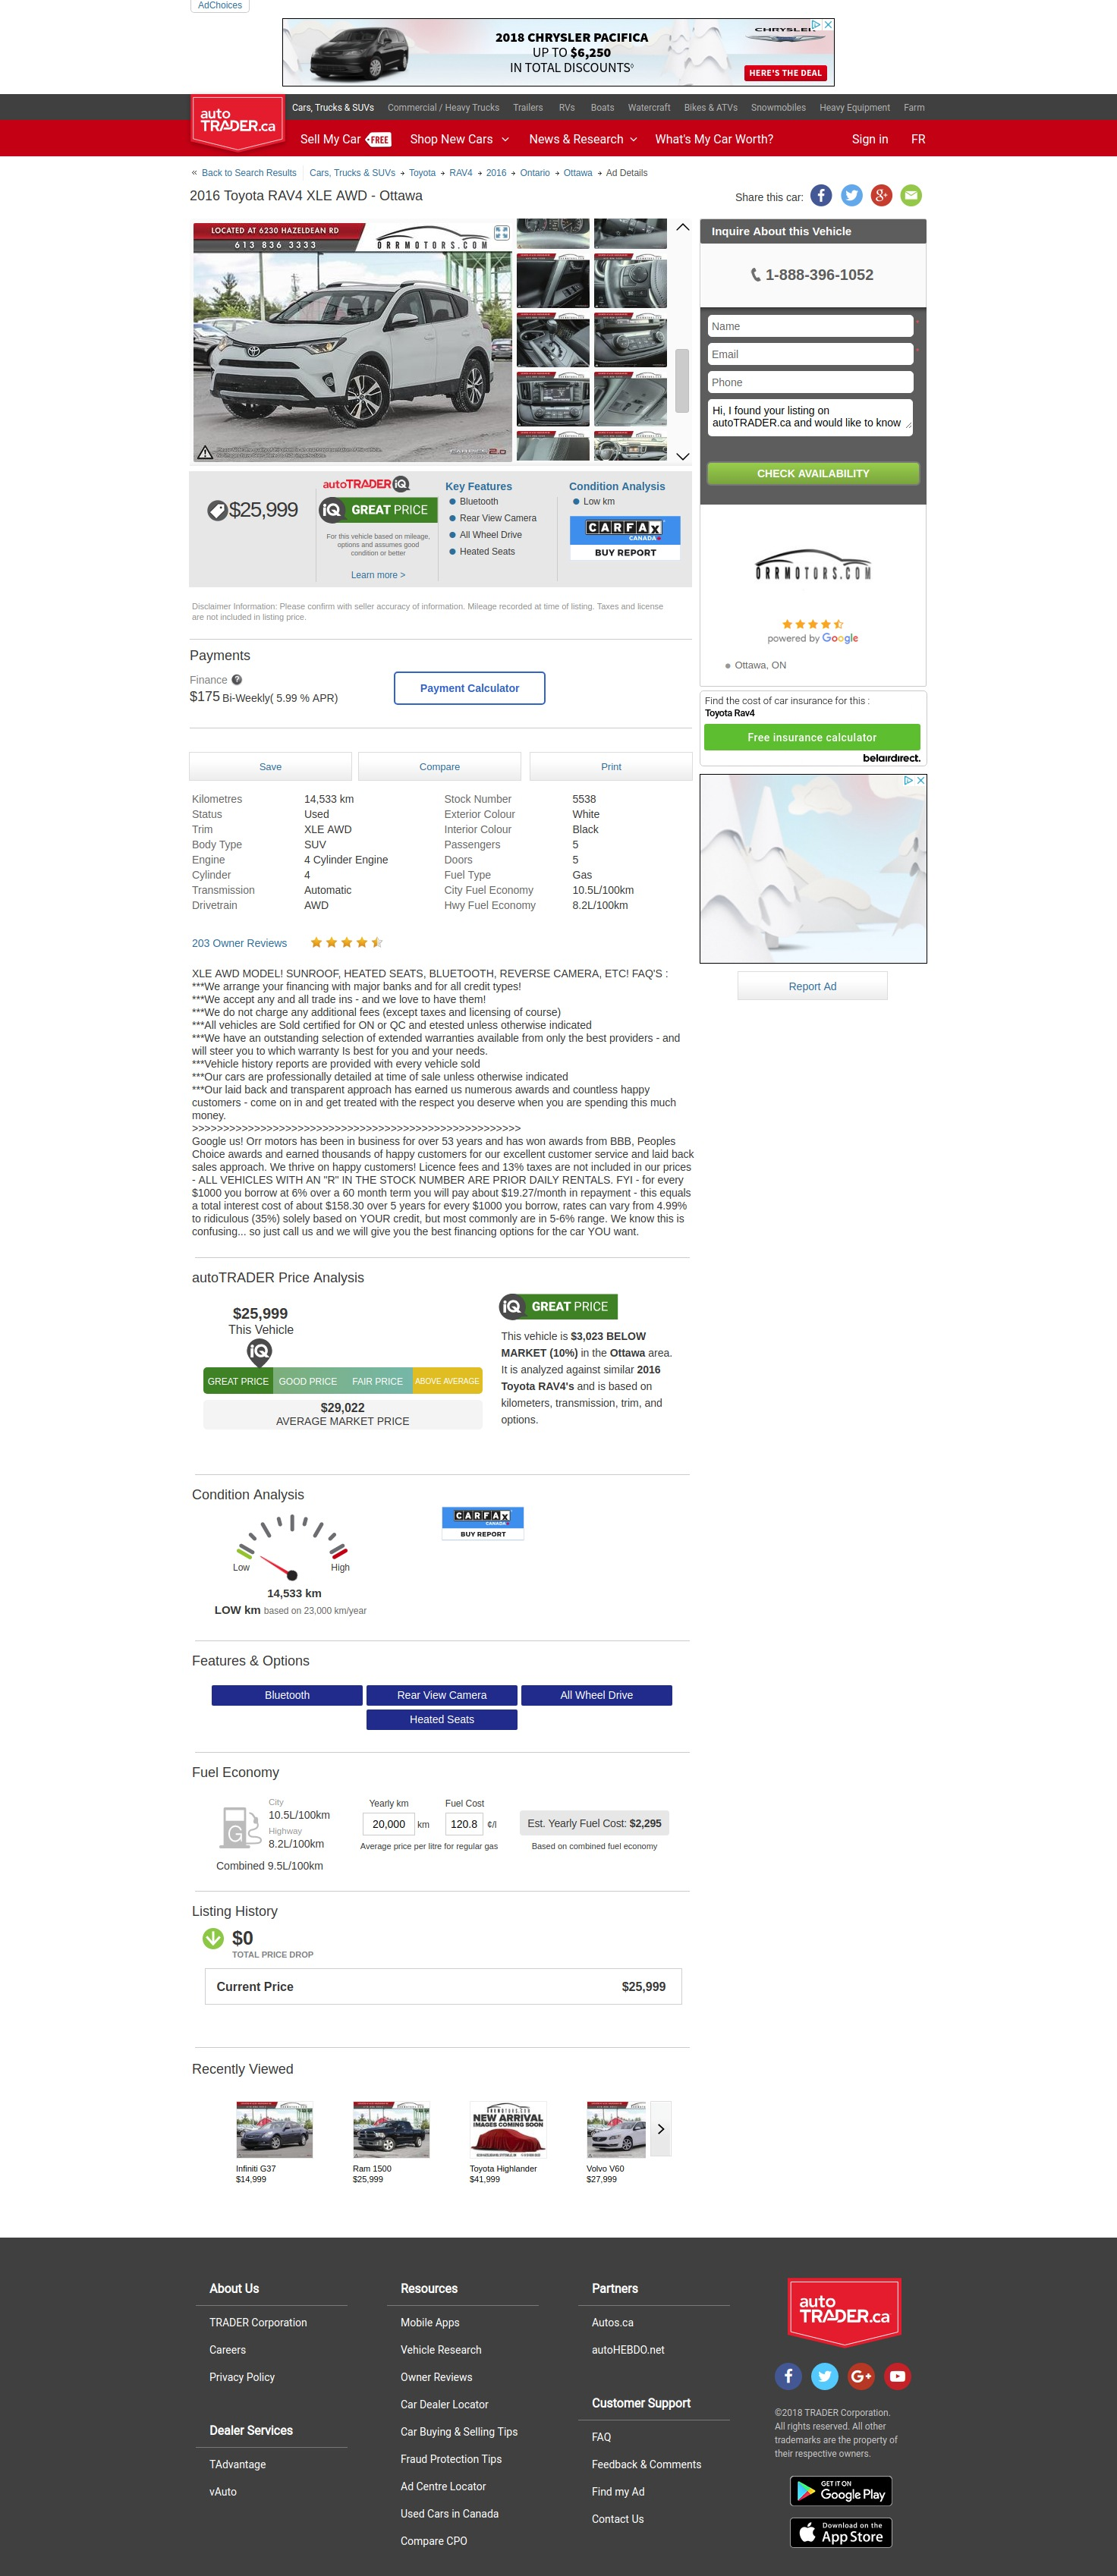car: (675, 452, 692, 462)
